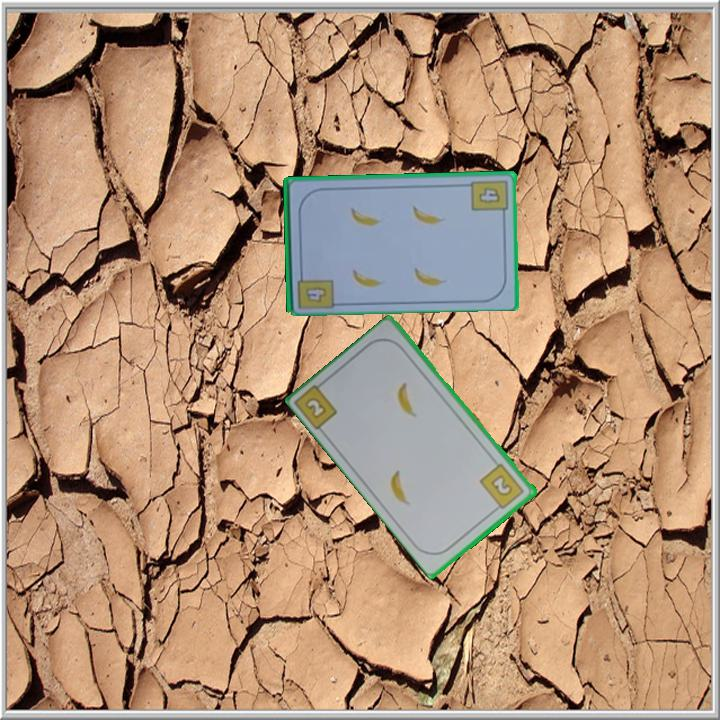2b: (477, 460, 527, 514), (302, 394, 329, 422)
4b: (468, 176, 510, 220), (302, 283, 330, 305)
